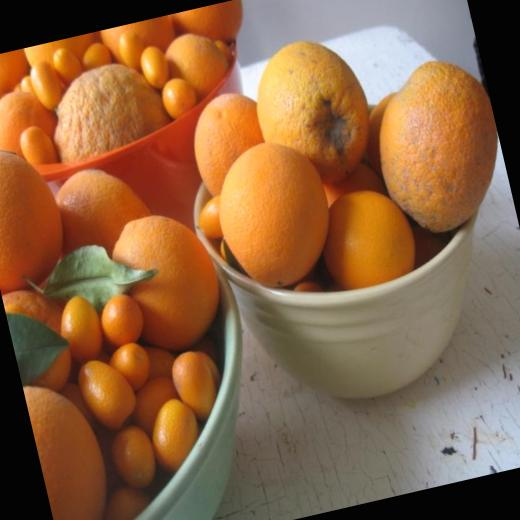Grape: (0, 108, 272, 520), (172, 0, 520, 318), (0, 0, 269, 179), (196, 128, 346, 294)
